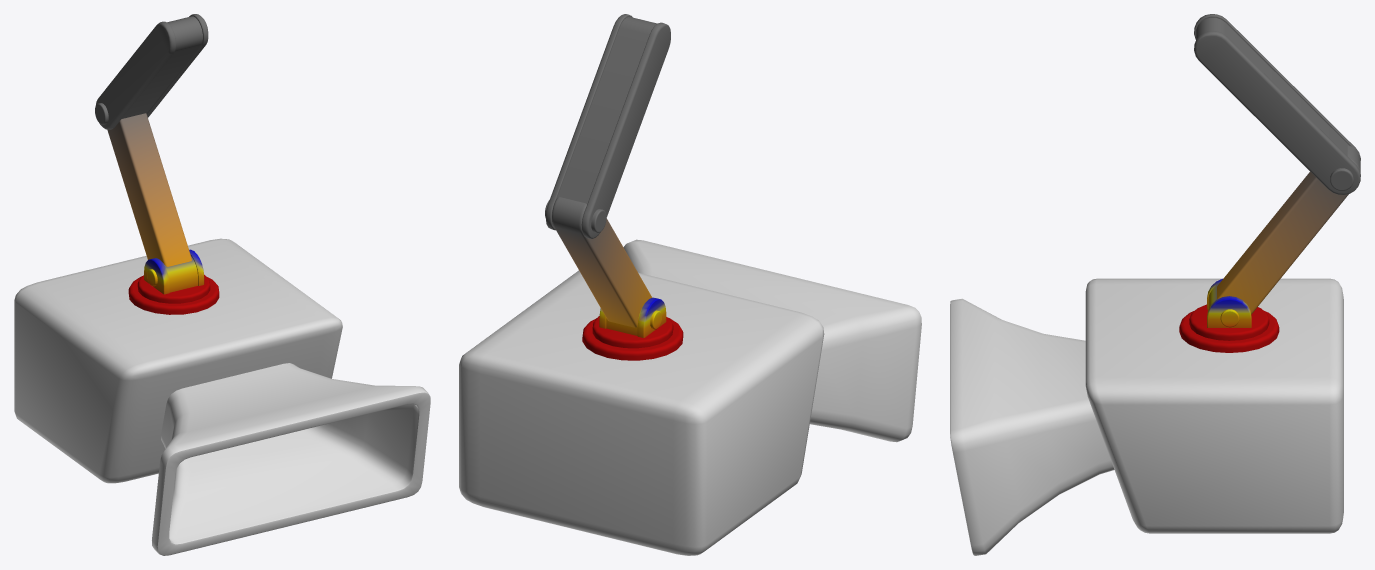
Rendered from OBJ_Haut_Parleur.fbx.
3 renders of one model, left to right at view 1: azimuth 30°, elevation 25°; view 2: azimuth 150°, elevation 25°; view 3: azimuth 270°, elevation 25°, orthographic. The views are drawn at different scales.
Visible parts, largest first — view 1: Bras_004, Object; view 2: Bras_004, Object; view 3: Bras_004, Object.
Boxes of the visible parts, x1=… form: Bras_004: x1=14, y1=14, x2=342, y2=483; Object: x1=152, y1=363, x2=430, y2=555; Bras_004: x1=459, y1=14, x2=824, y2=555; Object: x1=623, y1=239, x2=921, y2=442; Bras_004: x1=1085, y1=14, x2=1360, y2=533; Object: x1=950, y1=298, x2=1114, y2=555.
Size of the model in its own units: 51.27 by 78.79 by 62.71.
